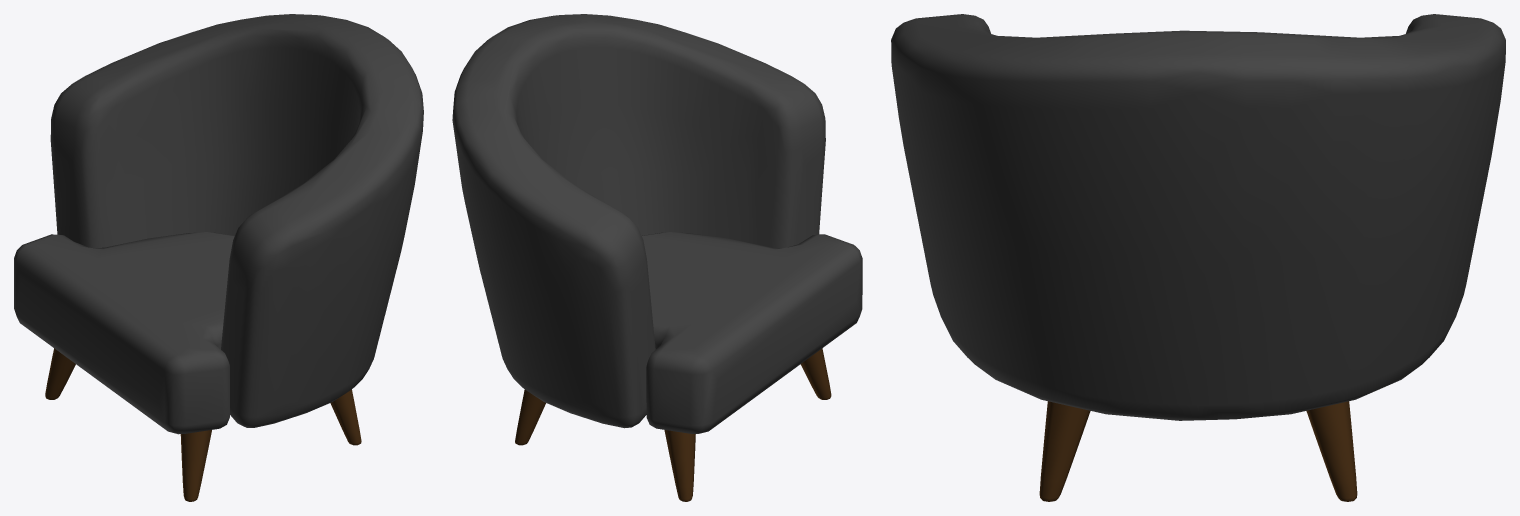
Rendered from armchair_07_black.fbx.
The picture shows the model from 3 angles, left to right: view 1: azimuth 30°, elevation 25°; view 2: azimuth 150°, elevation 25°; view 3: azimuth 270°, elevation 25°; orthographic projection. The views are drawn at different scales.
Visible parts, largest first — view 1: armchair_07_black; view 2: armchair_07_black; view 3: armchair_07_black.
Boxes of the visible parts, left/top/right/bottom form: armchair_07_black: left=14, top=14, right=423, bottom=501; armchair_07_black: left=452, top=14, right=862, bottom=501; armchair_07_black: left=891, top=14, right=1505, bottom=501.
Bounding box in the file's own units: 102 × 114 × 128.
Materials: 2 (2 with a texture image).
